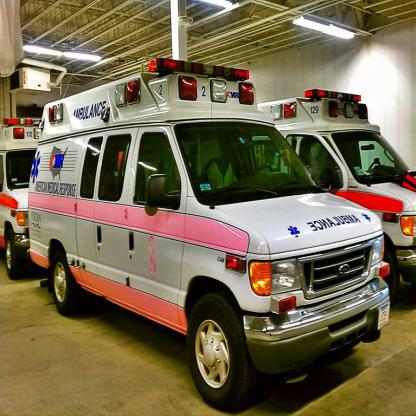bus: (28, 58, 390, 416), (256, 92, 416, 306), (1, 119, 44, 282)
